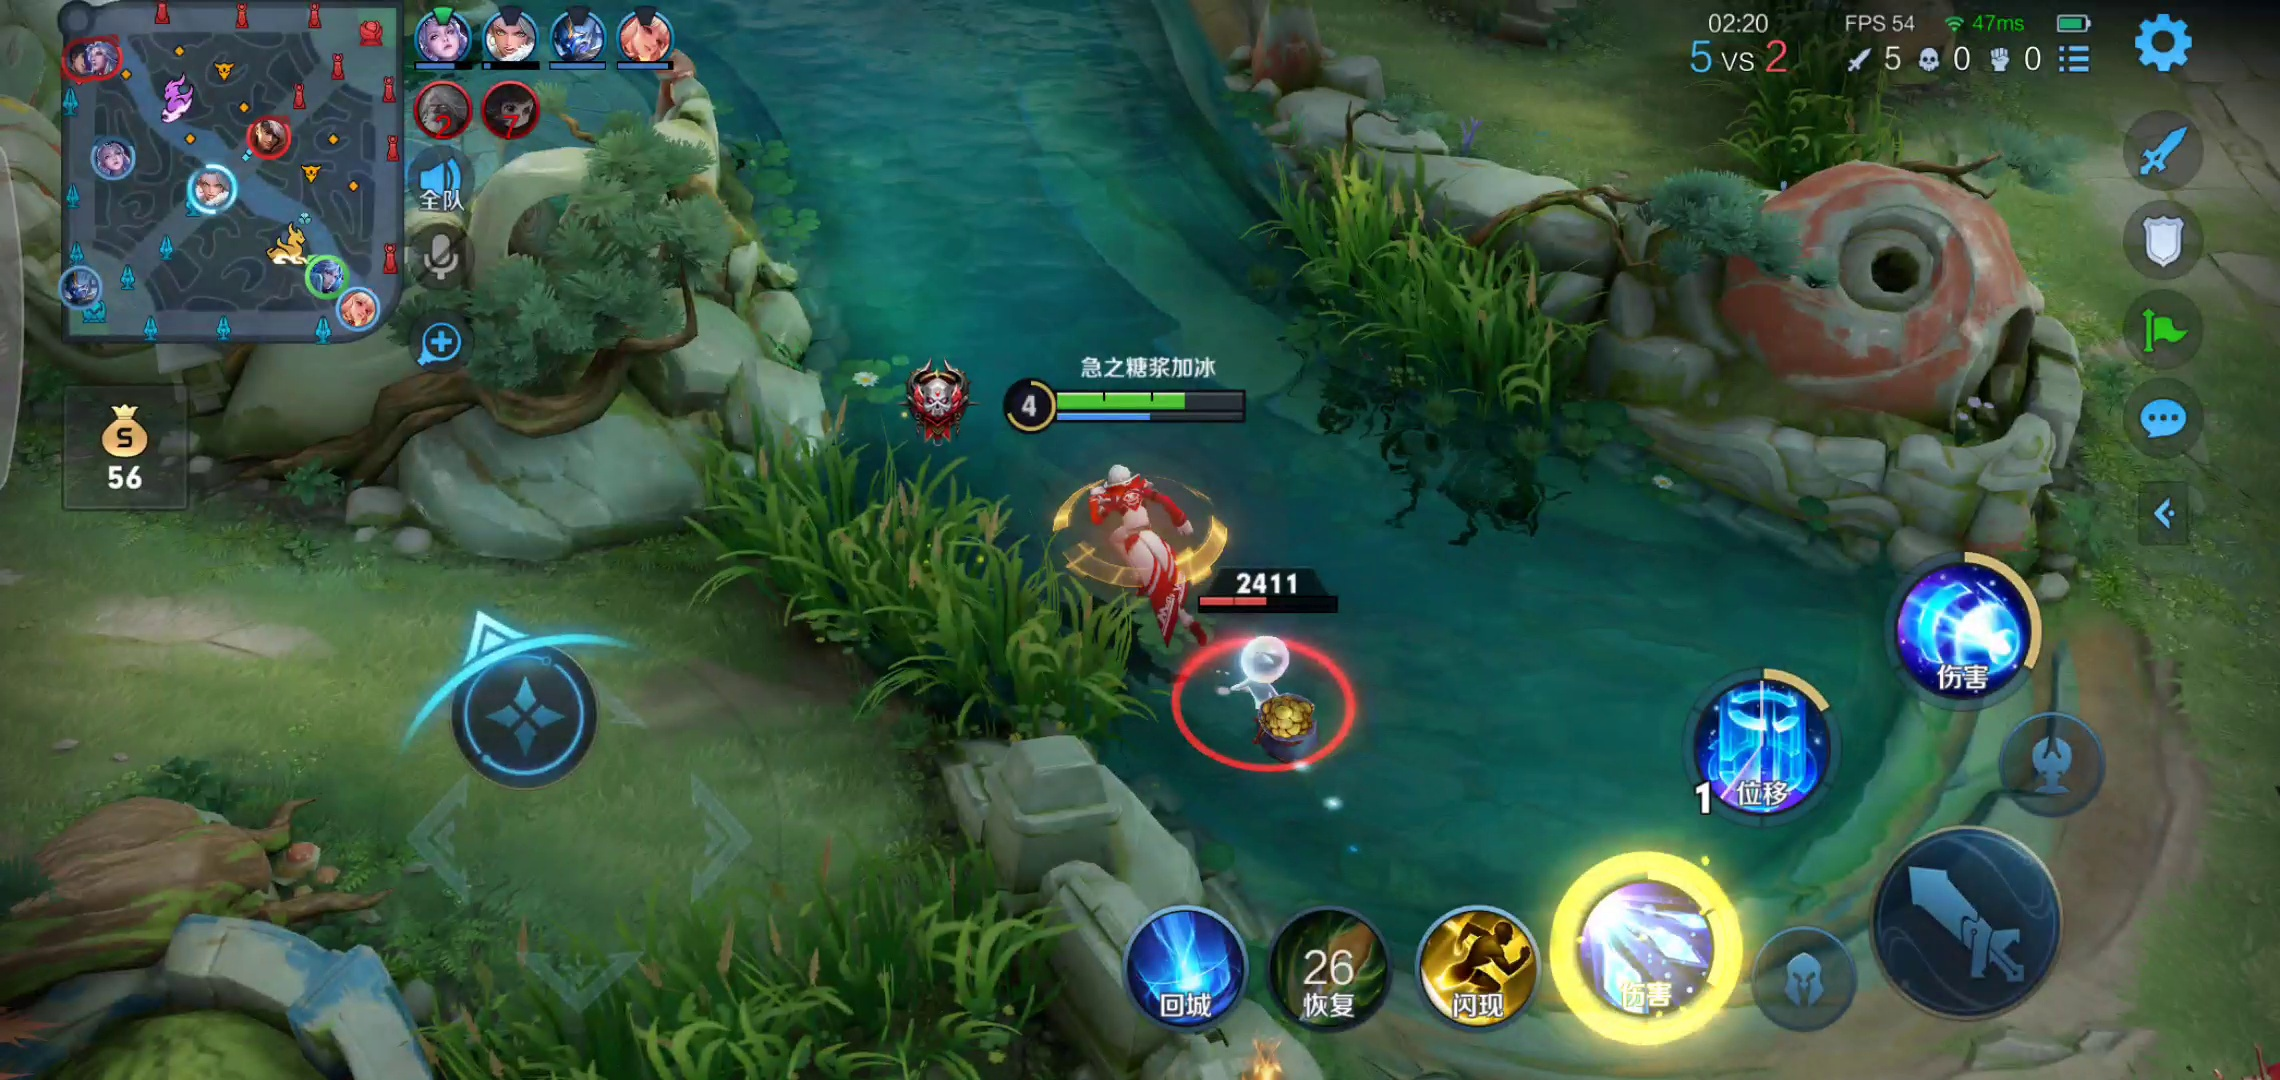grass: (459, 834, 1040, 1080), (702, 435, 1121, 722), (1269, 170, 1605, 462), (1703, 1, 1919, 196)
hero: (1073, 470, 1216, 621)
wild_monster: (1195, 664, 1368, 785)
